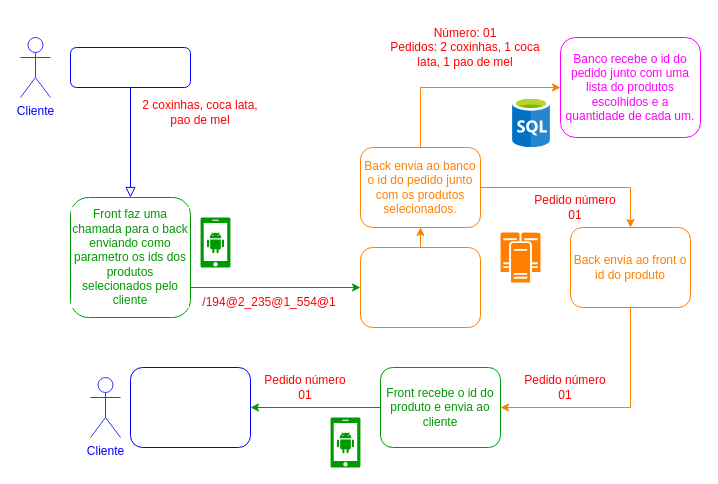
This 718x484 diagram has some shape labels left out. The centre of each missing label's shape, as x and y in pixels:
"Back recebe o chamado, gera o id do pedido conforme banco" goes at (x=420, y=287).
"Cliente finaliza o pedido no aplicativo" goes at (x=130, y=67).
"Cliente recebe o id" goes at (x=190, y=407).
